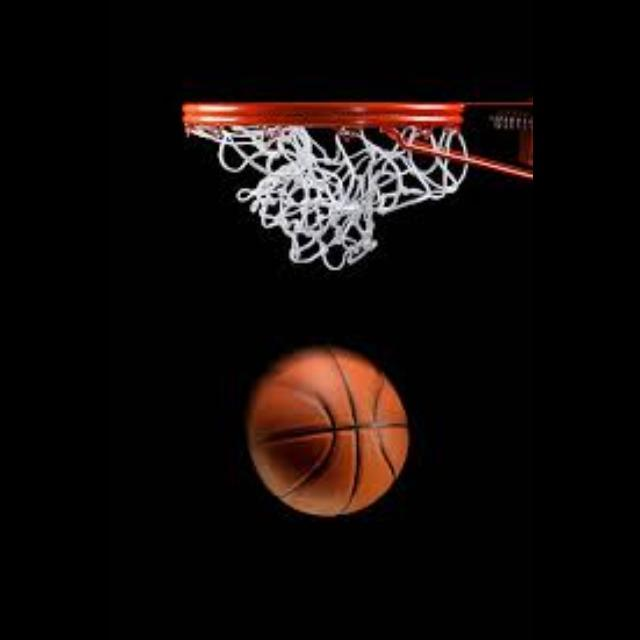basketball: (240, 346, 408, 514)
rim: (182, 104, 466, 270)
